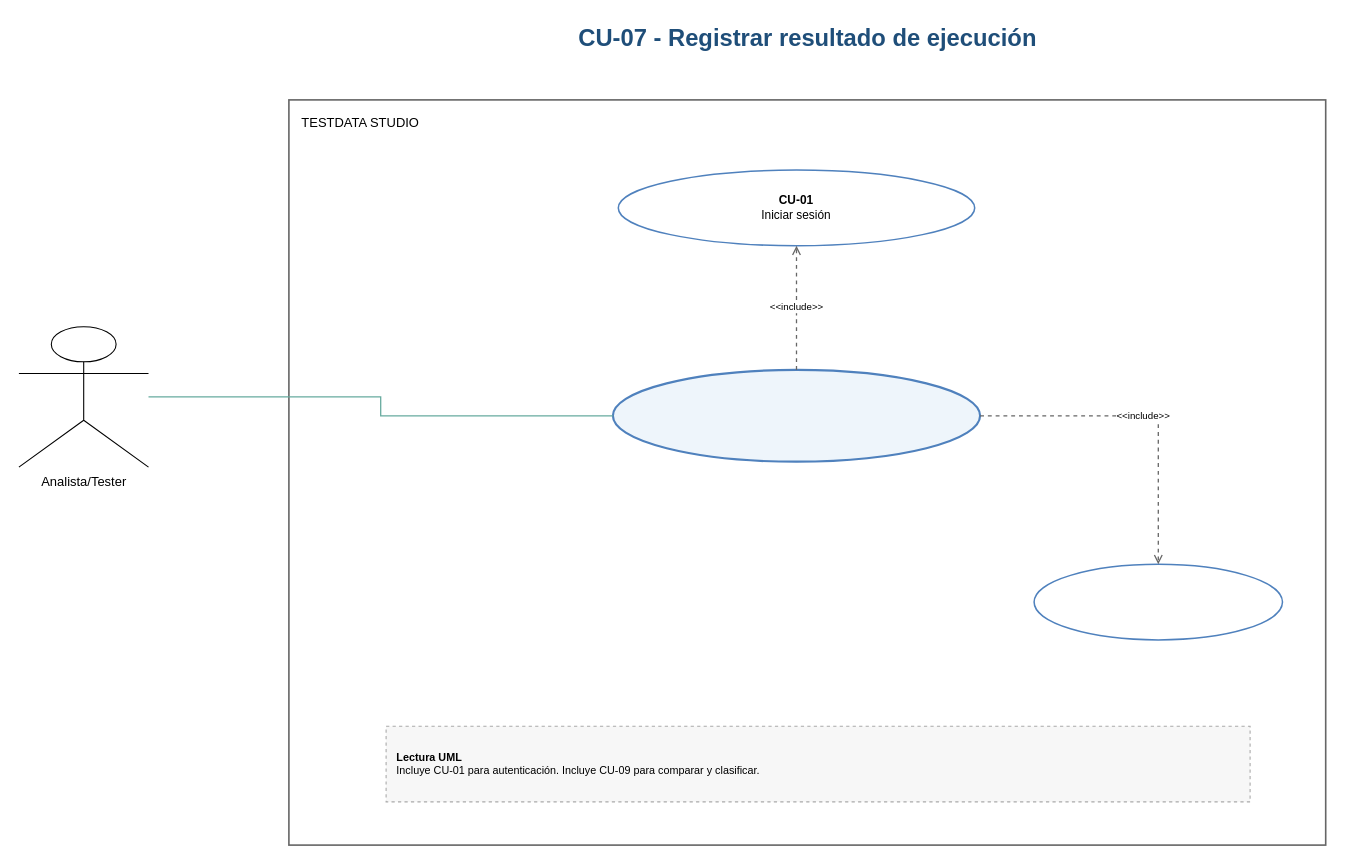
The diagram is 1366 pixels wide and 864 high, and some of its shapes have lost their labels. Each missing label, with the box of its shape:
CU-07 Registrar resultado de ejecución: (611, 368, 981, 462)
CU-09 Comparar y clasificar resultados: (1033, 563, 1283, 640)
